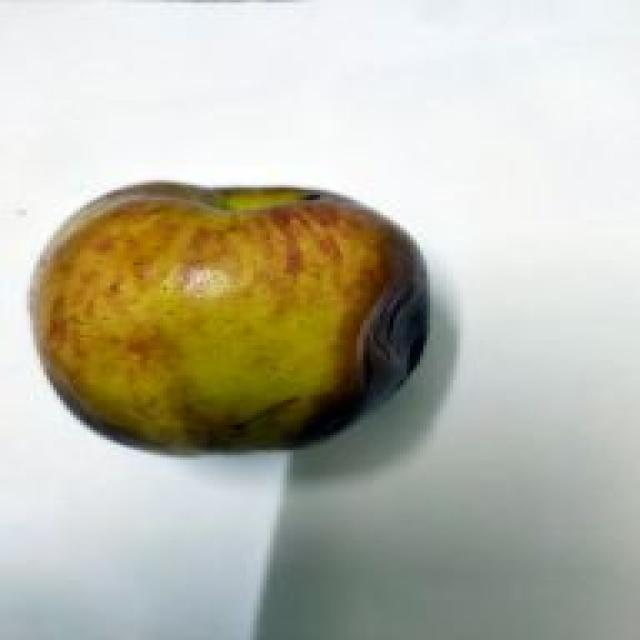Rotten_Apple: (23, 173, 437, 458)
